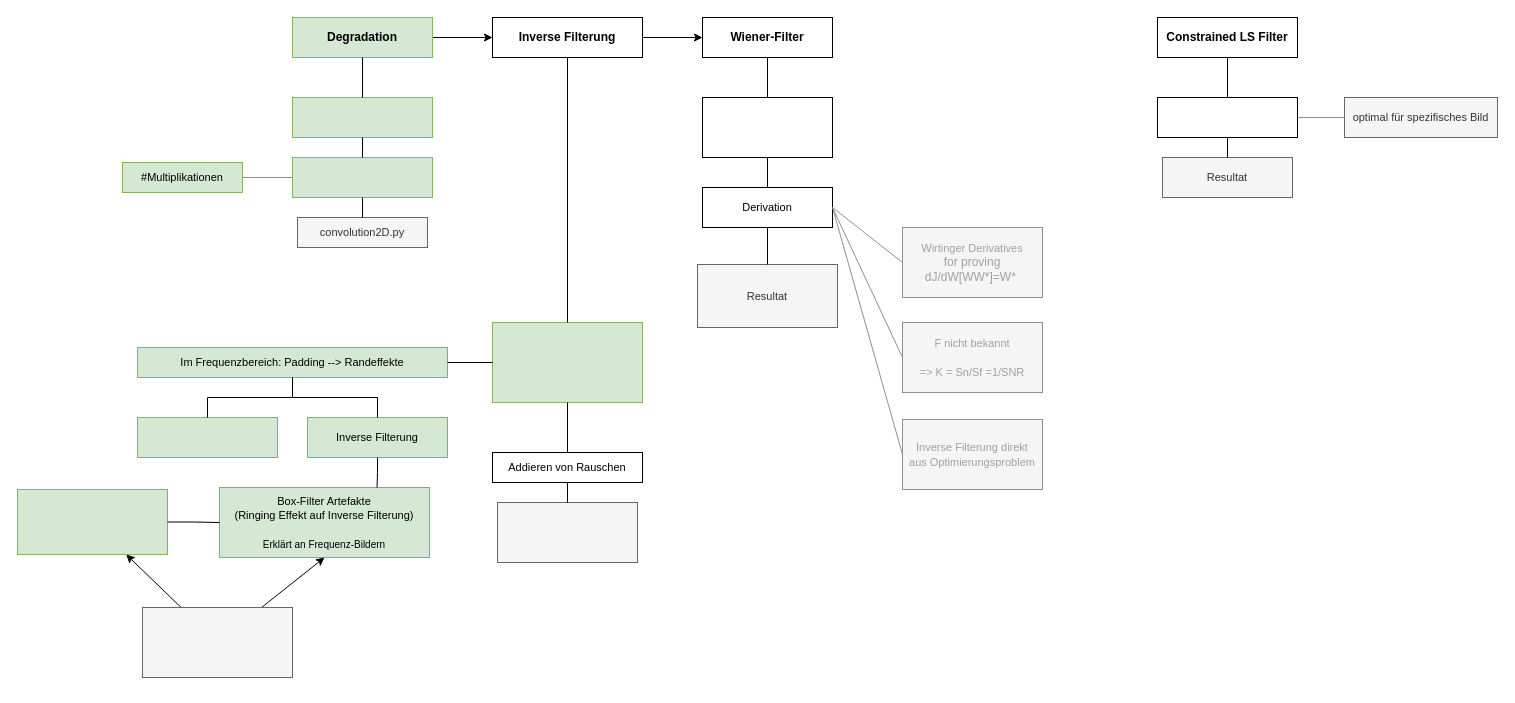
This 1515x703 diagram has some shape labels left out. The shapes that lost their labels are listed below. From the top down, each one's box as (x1, y1, x2, y2) in pixels, then its label:
(292, 96, 432, 138): Simulation Degradation
(702, 96, 832, 158): Setup als statistisches (LS) Minimierungsproblem
(1156, 96, 1298, 138): Setup als anderes Optimierungsproblem
(292, 156, 432, 198): Separierbarkeit Kernel
(492, 322, 642, 402): Zyklische Faltung diskret o--o periodisch
(136, 416, 278, 458): Forwärts-Filterung
(16, 488, 168, 554): Hohe Frequenzen in G als Resultat von non-'full' conv
(496, 502, 638, 562): Resultat Motivation Wiener-Filter
(142, 606, 292, 678): Kombination ( 'full' convolution hat das Problem nicht )
